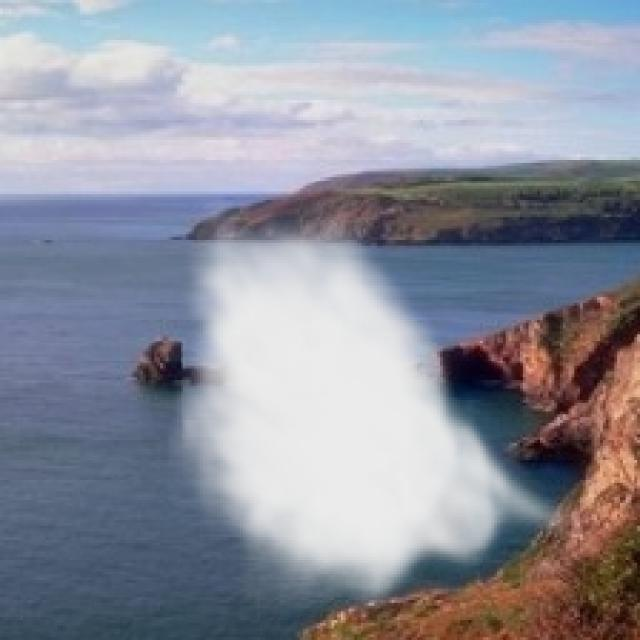smoke: (166, 194, 583, 617)
